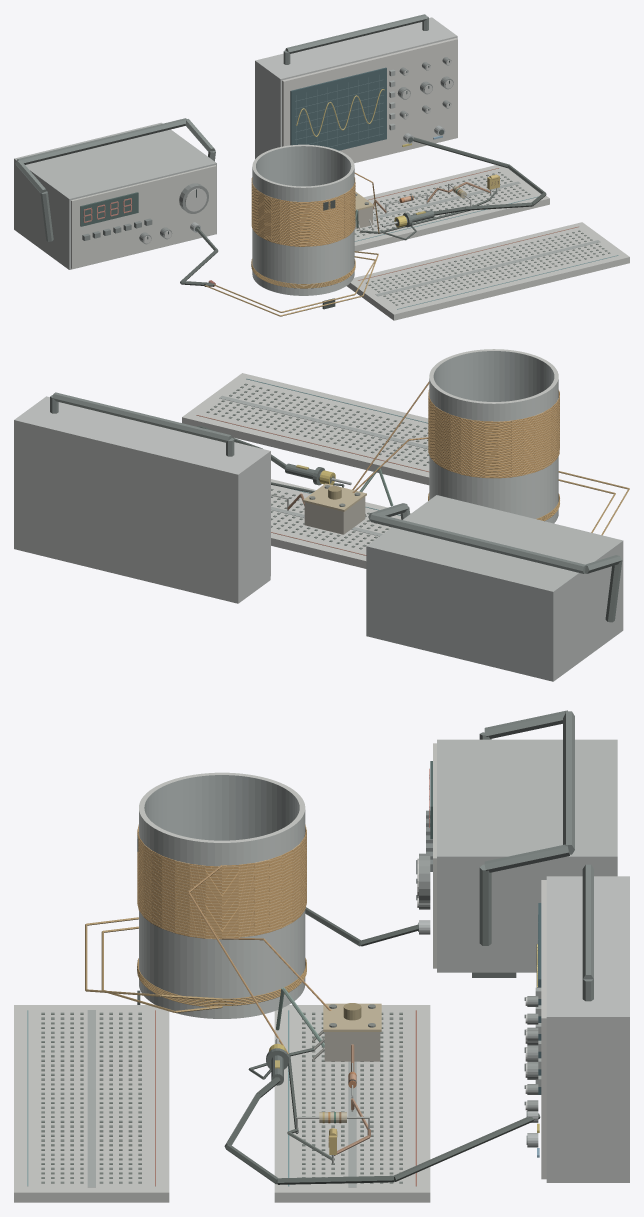
File: radio-assembly.glb
The picture shows the model from 3 angles, top to bottom: view 1: azimuth 30°, elevation 25°; view 2: azimuth 150°, elevation 25°; view 3: azimuth 270°, elevation 25°; orthographic projection. The views are drawn at different scales.
Parts seen in each view (by area): view 1: oscilloscope, generator, breadboard, coil, probe, test-loop, connections, tuning-capacitor; view 2: oscilloscope, generator, coil, breadboard, tuning-capacitor, probe, test-loop; view 3: breadboard, generator, coil, oscilloscope, probe, tuning-capacitor, test-loop, connections.
Boxes of the visible parts, x1=… form: oscilloscope: x1=255, y1=14, x2=457, y2=163; generator: x1=14, y1=118, x2=216, y2=269; breadboard: x1=347, y1=165, x2=629, y2=320; coil: x1=251, y1=144, x2=379, y2=309; probe: x1=382, y1=137, x2=546, y2=240; test-loop: x1=204, y1=251, x2=378, y2=316; connections: x1=180, y1=182, x2=497, y2=286; tuning-capacitor: x1=354, y1=192, x2=374, y2=232; oscilloscope: x1=14, y1=392, x2=270, y2=603; generator: x1=366, y1=495, x2=623, y2=681; coil: x1=352, y1=349, x2=559, y2=523; breadboard: x1=182, y1=373, x2=429, y2=568; tuning-capacitor: x1=303, y1=483, x2=366, y2=534; probe: x1=197, y1=426, x2=351, y2=487; test-loop: x1=428, y1=471, x2=629, y2=535; breadboard: x1=14, y1=1005, x2=430, y2=1202; generator: x1=416, y1=710, x2=617, y2=977; coil: x1=137, y1=772, x2=331, y2=1053; oscilloscope: x1=524, y1=864, x2=629, y2=1182; probe: x1=224, y1=1038, x2=540, y2=1184; tuning-capacitor: x1=312, y1=1003, x2=381, y2=1061; test-loop: x1=85, y1=917, x2=306, y2=1012; connections: x1=276, y1=907, x2=418, y2=1160.
Bounding box in the file's own units: 0.3012 × 0.0872 × 0.222.
